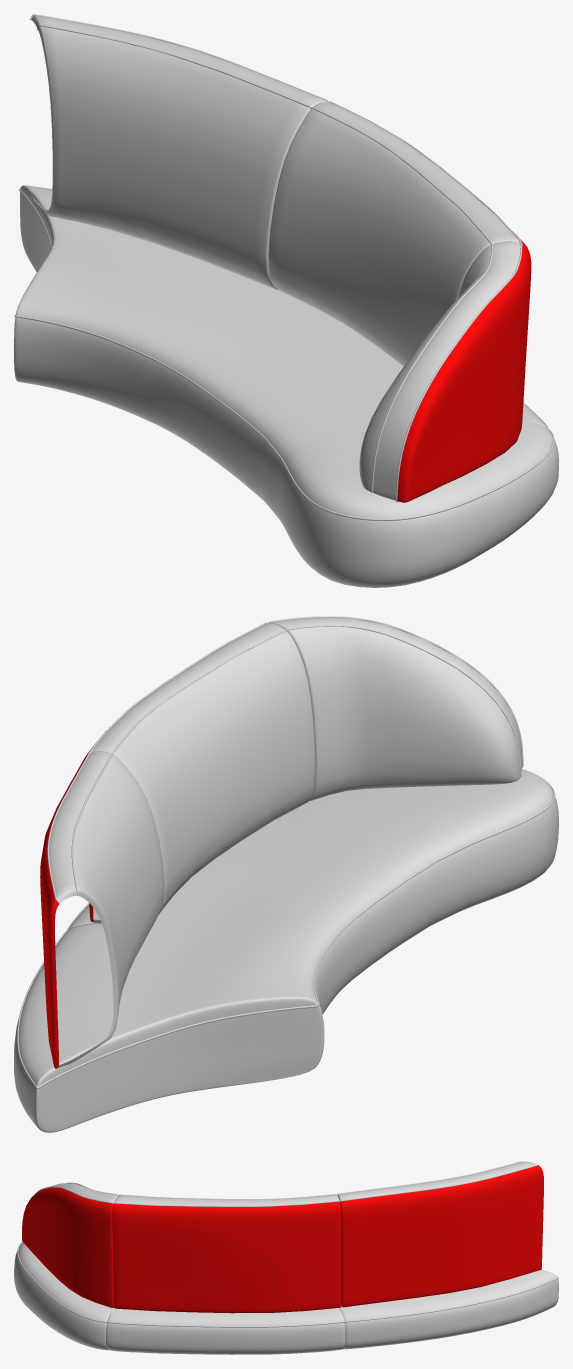
File: levante_m_female.gltf
3 views of the same model, one above another, from view 1: azimuth 30°, elevation 25°; view 2: azimuth 150°, elevation 25°; view 3: azimuth 270°, elevation 25° (orthographic). The views are drawn at different scales.
Visible parts, largest first — view 1: levante_m_female; view 2: levante_m_female; view 3: levante_m_female.
Boxes of the visible parts, <box> form: levante_m_female: <box>14,14,558,587</box>; levante_m_female: <box>14,616,558,1132</box>; levante_m_female: <box>14,1161,558,1354</box>.
Bounding box in the file's own units: 0.9371 × 0.6989 × 2.29.
